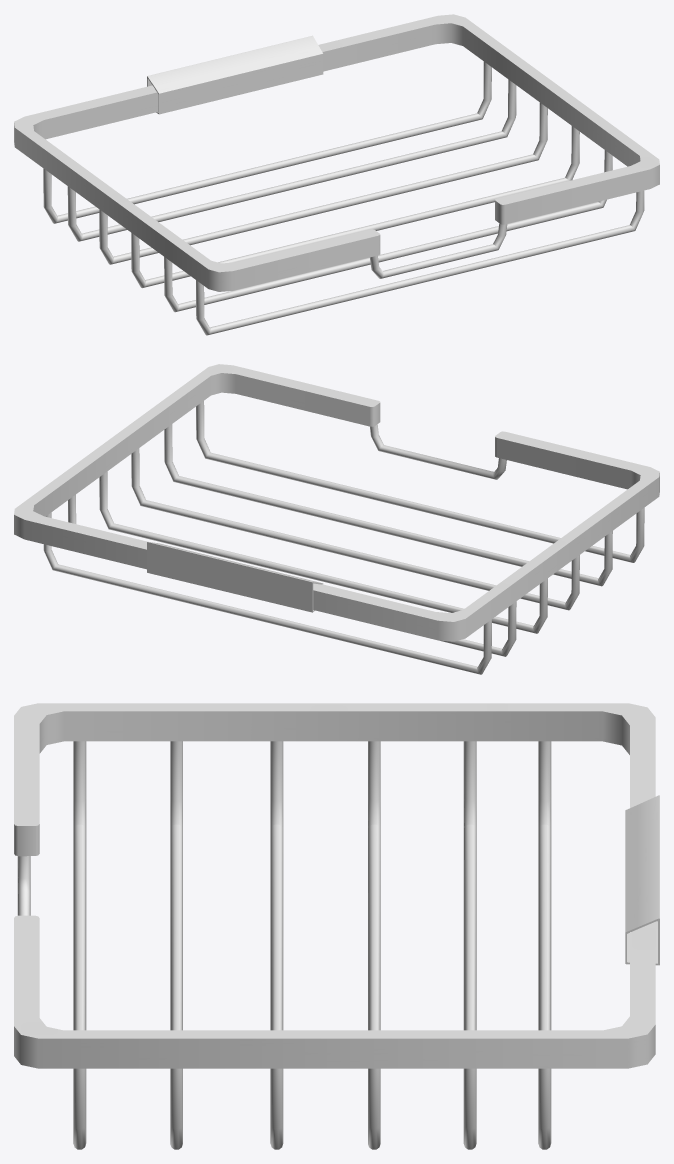
Rendered from BtR_SoapDish.fbx.
The picture shows the model from 3 angles, top to bottom: view 1: azimuth 30°, elevation 25°; view 2: azimuth 150°, elevation 25°; view 3: azimuth 270°, elevation 25°; orthographic projection. The views are drawn at different scales.
Parts seen in each view (by area): view 1: Soapdish; view 2: Soapdish; view 3: Soapdish.
Boxes of the visible parts, x1,y1,x2,y2 form: Soapdish: [14, 14, 659, 335]; Soapdish: [14, 364, 659, 674]; Soapdish: [14, 703, 659, 1149].
Size of the model in its own units: 0.0376 by 0.00699 by 0.0306.
